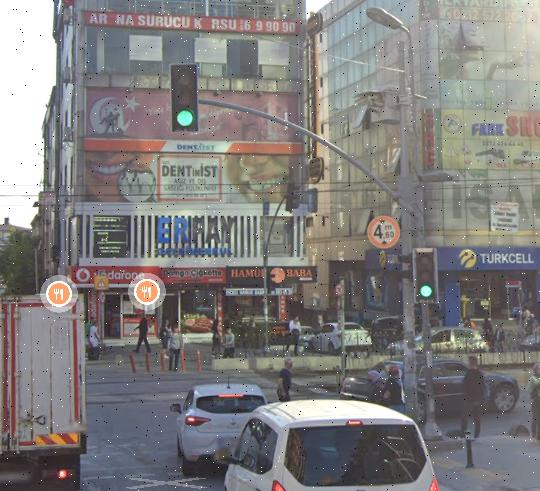greenlight: (171, 65, 197, 128), (414, 249, 437, 302)
